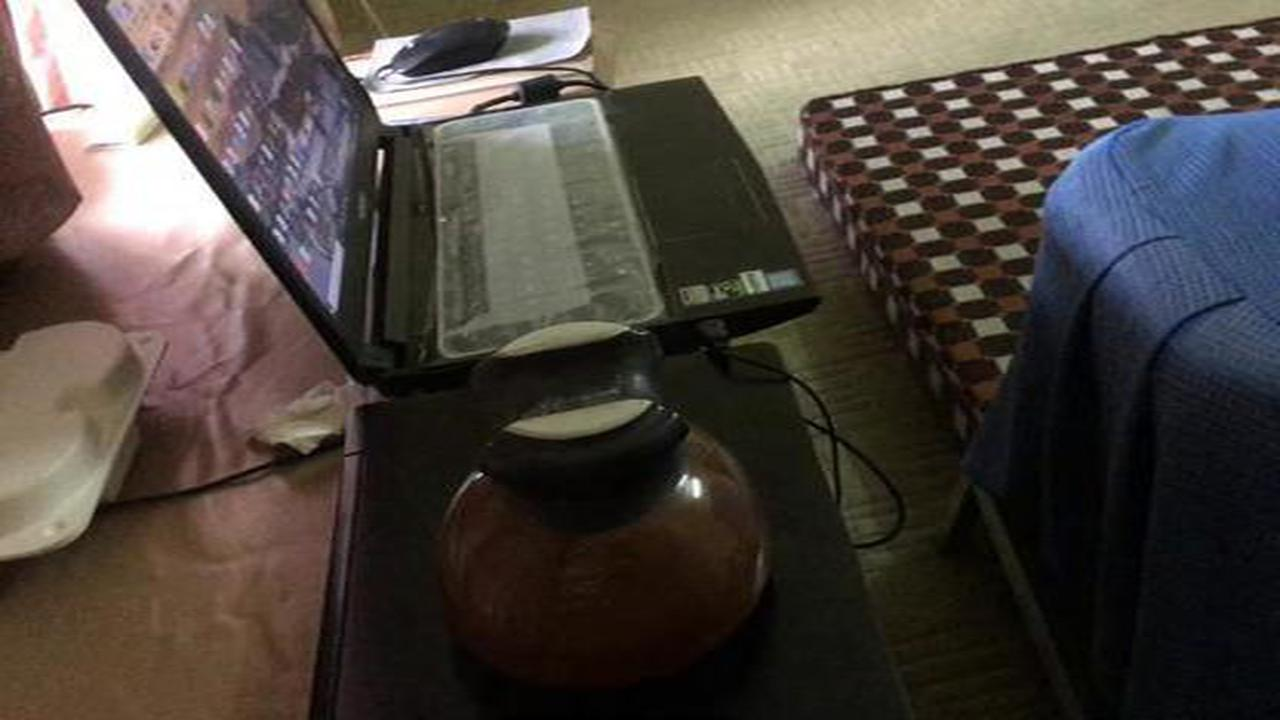insulator_pin: (409, 317, 804, 703)
